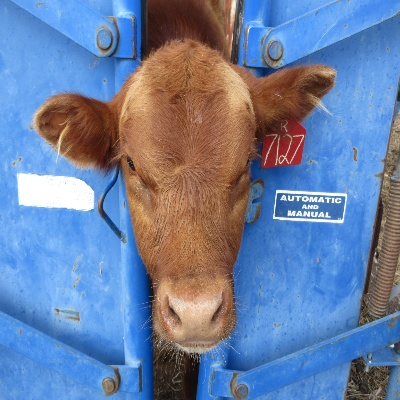fidget_spinner: (154, 290, 233, 351)
